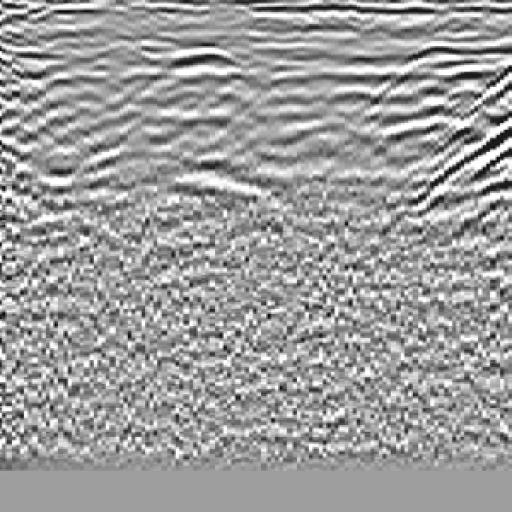metalic: (139, 38, 309, 277)
nonmetalic: (393, 47, 512, 265)
